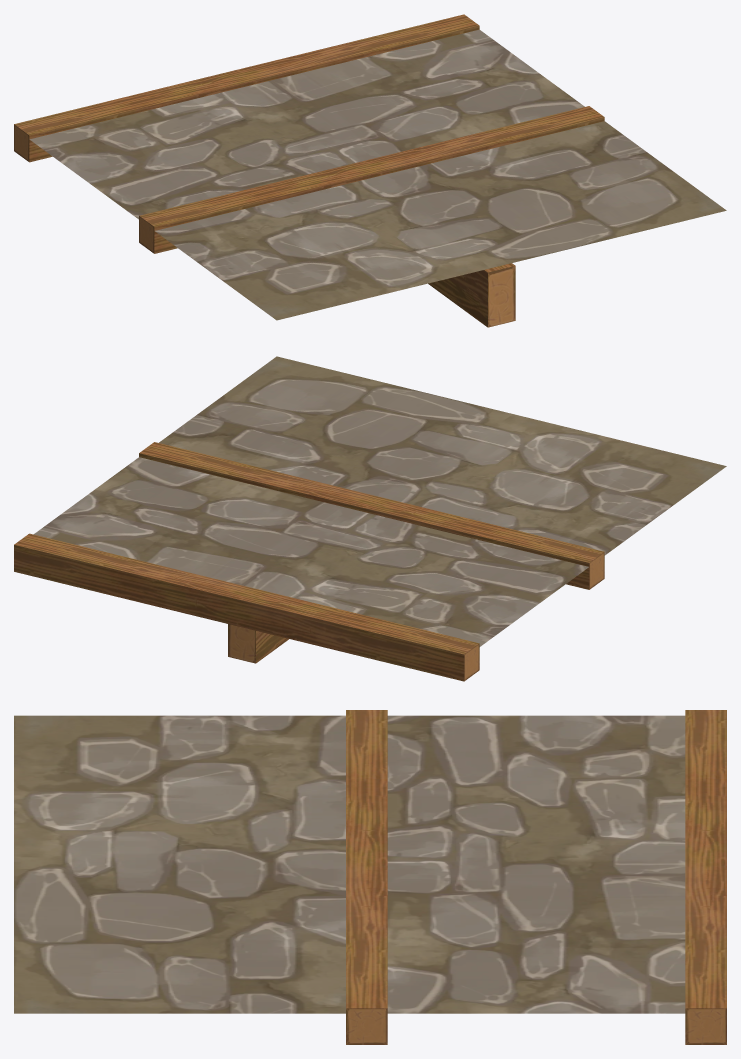
Rendered from Overhang_Roof_UnevenBricks.glb.
3 renders of one model, top to bottom at view 1: azimuth 30°, elevation 25°; view 2: azimuth 150°, elevation 25°; view 3: azimuth 270°, elevation 25°, orthographic. The views are drawn at different scales.
Parts seen in each view (by area): view 1: Overhang_Roof_UnevenBricks; view 2: Overhang_Roof_UnevenBricks; view 3: Overhang_Roof_UnevenBricks.
Part boxes in pixels (x1,y1,x2,y2): Overhang_Roof_UnevenBricks: [14, 14, 726, 327]; Overhang_Roof_UnevenBricks: [14, 356, 726, 681]; Overhang_Roof_UnevenBricks: [14, 710, 726, 1044].
Bounding box in the file's own units: 2 × 0.2658 × 2.02.
Materials: 2 (2 with a texture image).
